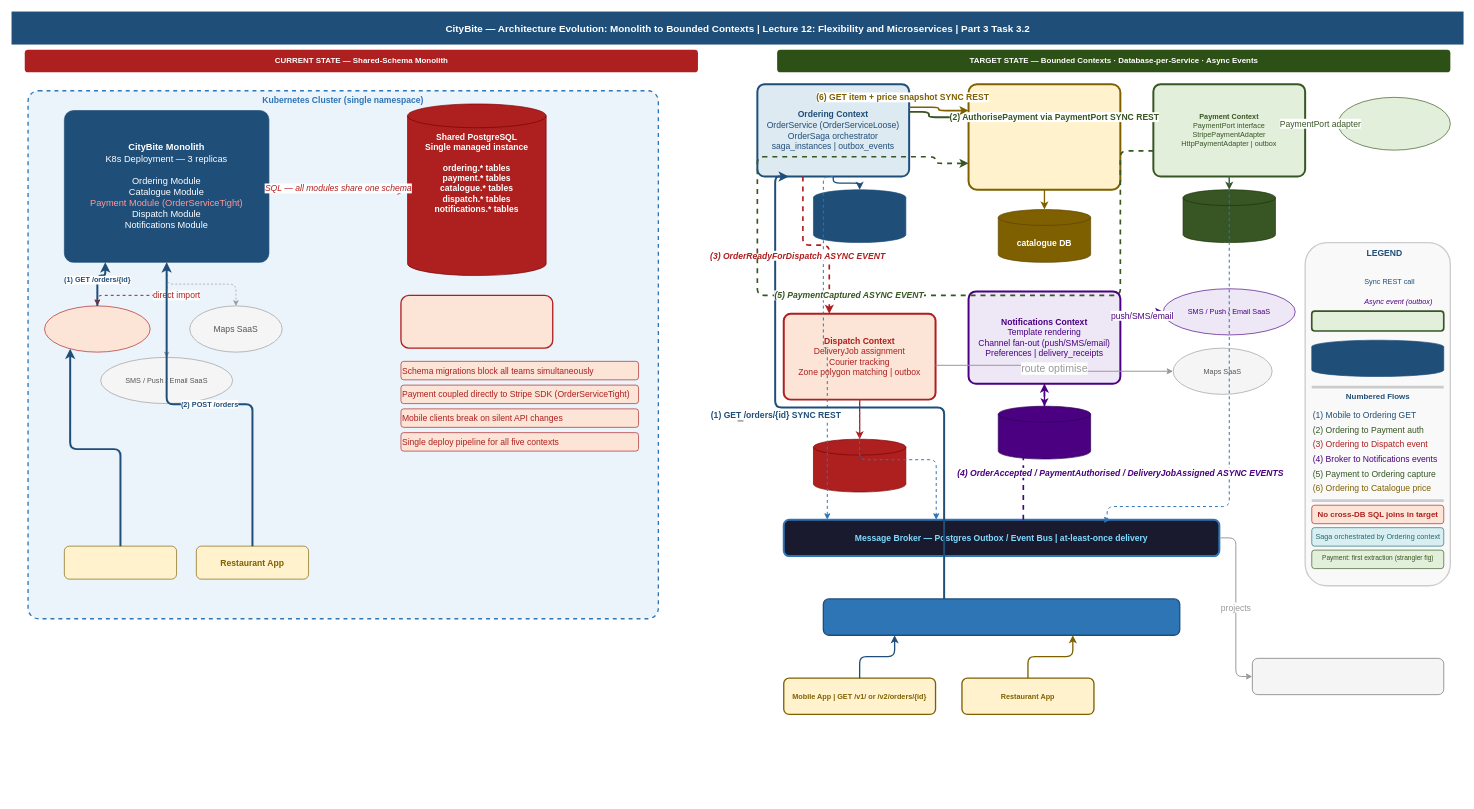
This 1474x809 diagram has some shape labels left out. The centre of each missing label's shape, as x and y in pixels:
"API Gateway / Ingress | route split: /v1/orders to /v2/orders" belongs at (x=1001, y=617).
"Bounded Context" belongs at (x=1377, y=321).
"Catalogue Context Menu management Item availability Restaurant profiles | outbox" belongs at (x=1044, y=136).
"Cross-schema JOINs orders JOIN payment_intents No context ownership enforced" belongs at (x=476, y=321).
"dispatch DB" belongs at (x=859, y=465).
"Mobile App" belongs at (x=120, y=562).
"notifications DB" belongs at (x=1044, y=432).
"orders DB" belongs at (x=859, y=216).
"Own DB schema" belongs at (x=1377, y=358).
"payment DB" belongs at (x=1228, y=216).
"Stripe / Adyen Gateway SaaS" belongs at (x=1393, y=123).
"Stripe SDK (direct import)" belongs at (x=97, y=328).
"Support Read Model | order_payment_summary (CQRS projection)" belongs at (x=1348, y=676).
